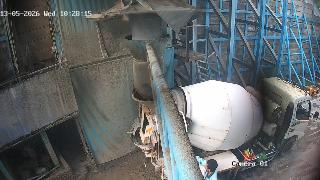cement_mixer_truck: (130, 78, 320, 180)
swing_chute: (123, 34, 171, 98)
